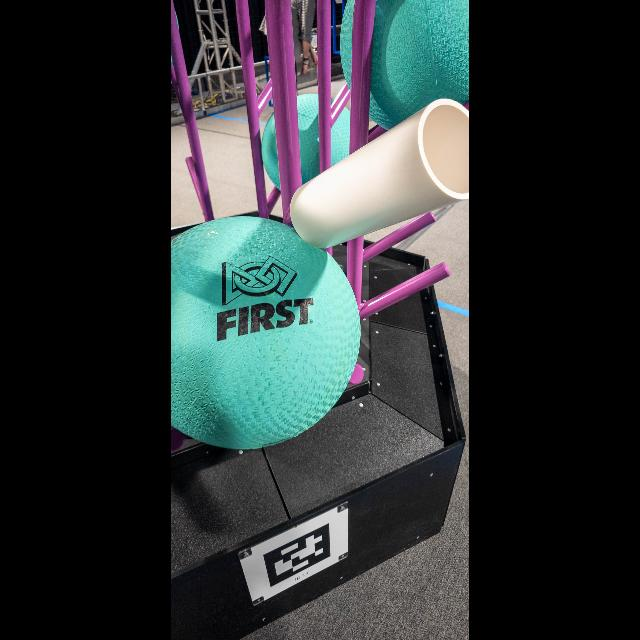ALGAE: (171, 216, 361, 450), (340, 0, 470, 132), (262, 94, 352, 194)
CORAL: (291, 99, 469, 249)
